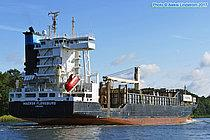Ship: (5, 23, 204, 131)
